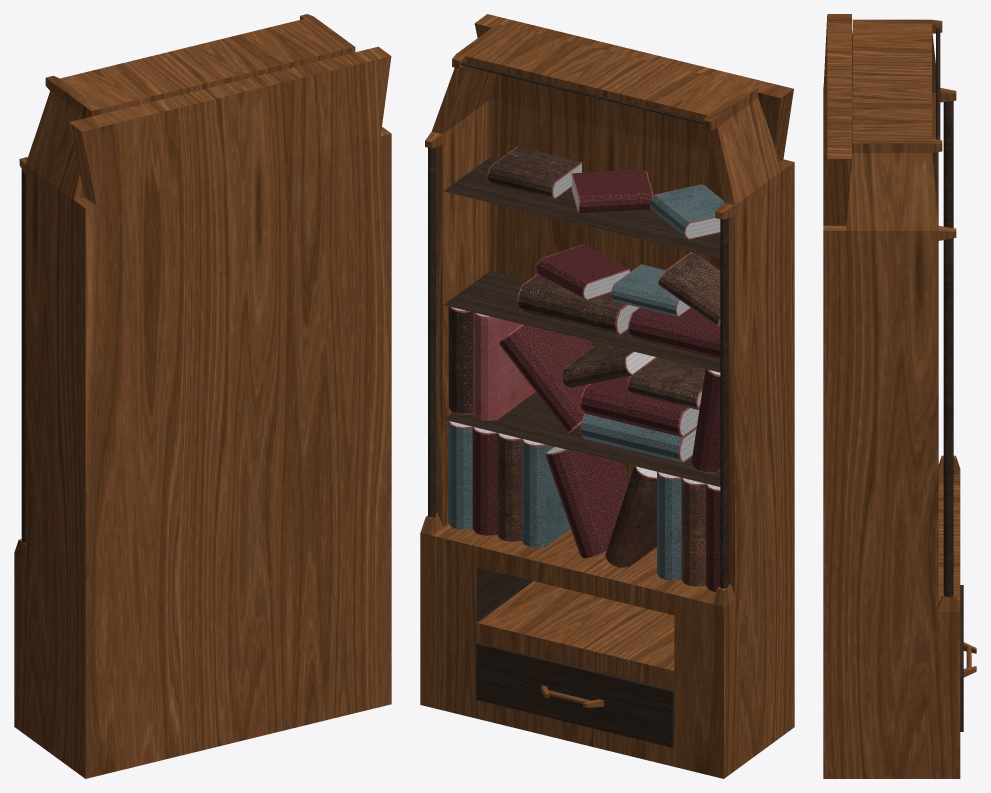
Rendered from bookshelf.fbx.
3 views of the same model, side by side, from view 1: azimuth 30°, elevation 25°; view 2: azimuth 150°, elevation 25°; view 3: azimuth 270°, elevation 25° (orthographic). The views are drawn at different scales.
Visible parts, largest first — view 1: Cube.021; view 2: Cube.021; view 3: Cube.021.
Part boxes in pixels (<box>): Cube.021: <box>14,14,391,778</box>; Cube.021: <box>420,14,794,778</box>; Cube.021: <box>823,14,976,778</box>.
Bounding box in the file's own units: 238 × 478 × 106.
